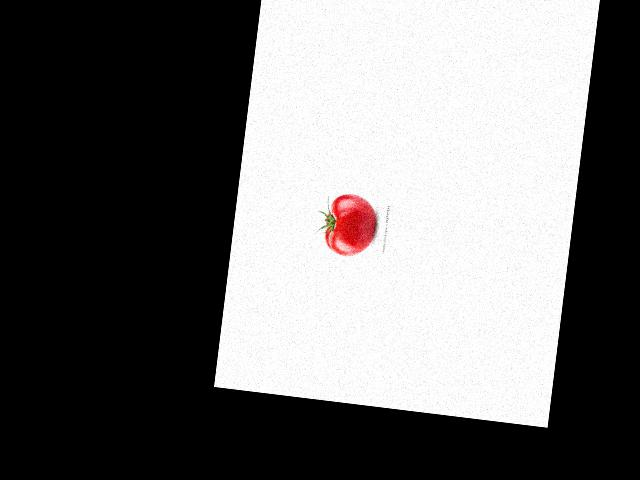tomato: (323, 191, 378, 259)
